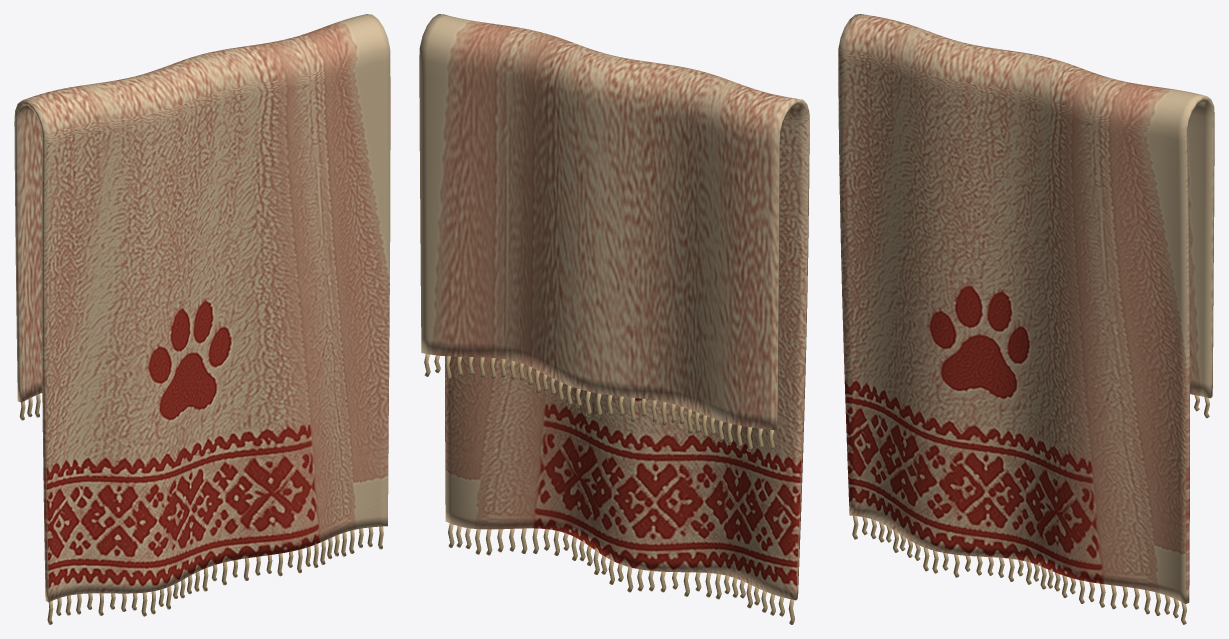
The model's file is bath-towel.glb.
The picture shows the model from 3 angles, left to right: view 1: azimuth 30°, elevation 25°; view 2: azimuth 150°, elevation 25°; view 3: azimuth 330°, elevation 25°; orthographic projection. The views are drawn at different scales.
Parts seen in each view (by area): view 1: Folded linen towel, Twisted hem fringe; view 2: Folded linen towel, Twisted hem fringe; view 3: Folded linen towel, Twisted hem fringe.
Part boxes in pixels (x1,y1,x2,y2): Folded linen towel: [14, 14, 390, 602]; Twisted hem fringe: [19, 394, 383, 624]; Folded linen towel: [419, 14, 809, 600]; Twisted hem fringe: [424, 354, 794, 624]; Folded linen towel: [838, 14, 1214, 603]; Twisted hem fringe: [852, 395, 1209, 624].
Size of the model in its own units: 0.3391 by 0.4854 by 0.0705.
2 materials, 2 textured.
